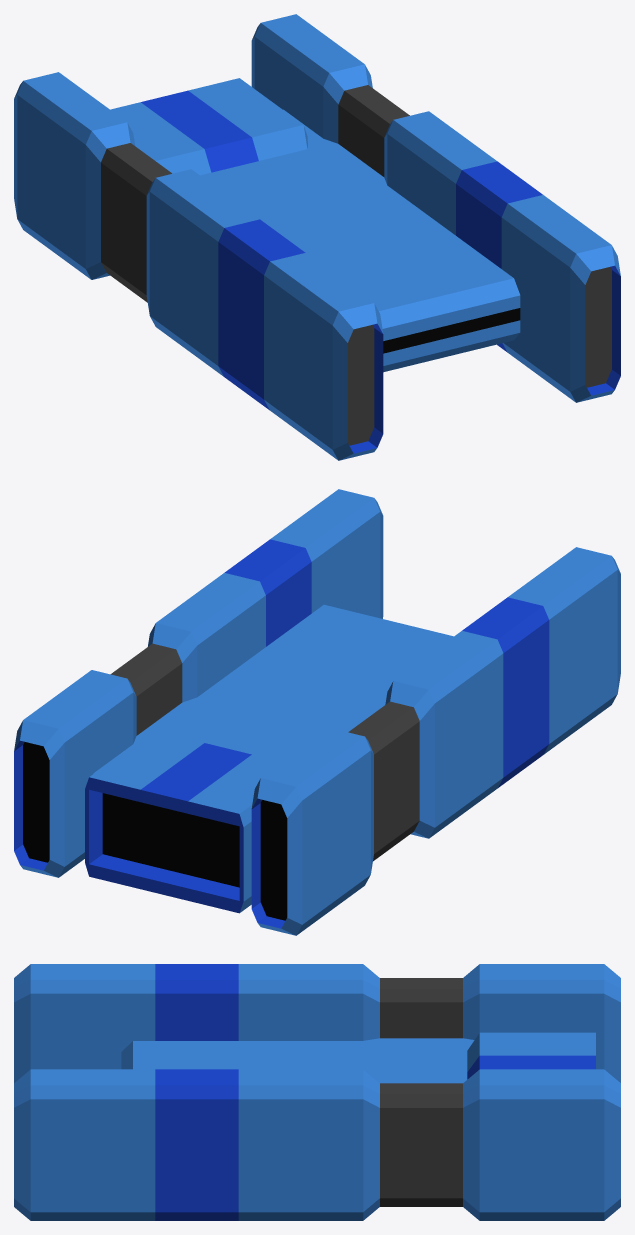
The model's file is Body.FBX.
The picture shows the model from 3 angles, top to bottom: view 1: azimuth 30°, elevation 25°; view 2: azimuth 150°, elevation 25°; view 3: azimuth 270°, elevation 25°; orthographic projection. The views are drawn at different scales.
Visible parts, largest first — view 1: VIFS003, VIFS001, VIFS002, VIFS005; view 2: VIFS003, VIFS001, VIFS004, VIFS002; view 3: VIFS003, VIFS001, VIFS002.
Boxes of the visible parts, box(x1,y1,x2,y2) form: VIFS003: box(14, 14, 620, 460); VIFS001: box(141, 90, 620, 453); VIFS002: box(101, 85, 611, 445); VIFS005: box(383, 308, 520, 353); VIFS003: box(14, 489, 620, 935); VIFS001: box(14, 539, 549, 928); VIFS004: box(23, 742, 287, 920); VIFS002: box(110, 643, 419, 861); VIFS003: box(14, 964, 620, 1220); VIFS001: box(155, 964, 595, 1220); VIFS002: box(380, 978, 462, 1206).
Size of the model in its own units: 7.2 by 3.6 by 14.6.
